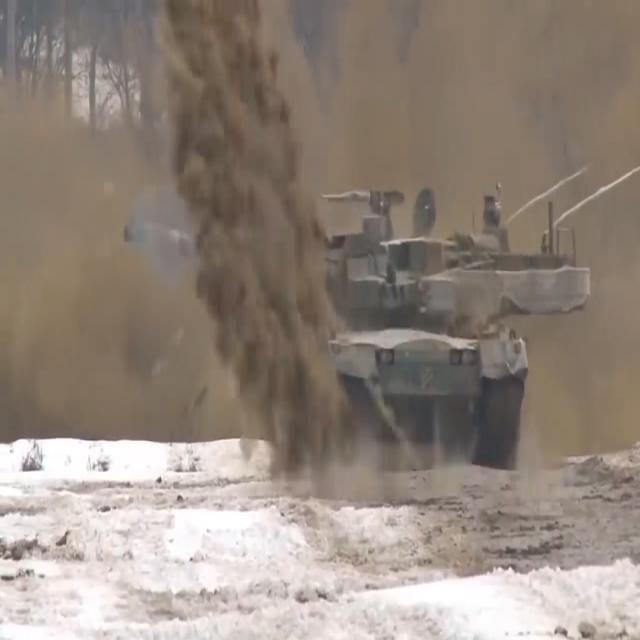korea tank: (121, 185, 593, 472)
